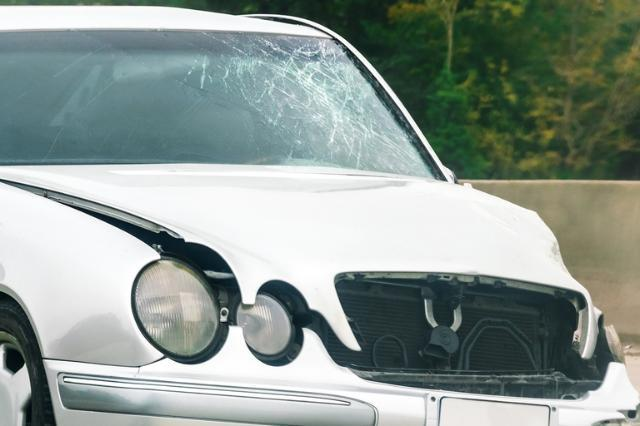Bonnet: (397, 181, 609, 343)
Windshield: (132, 22, 441, 171)
